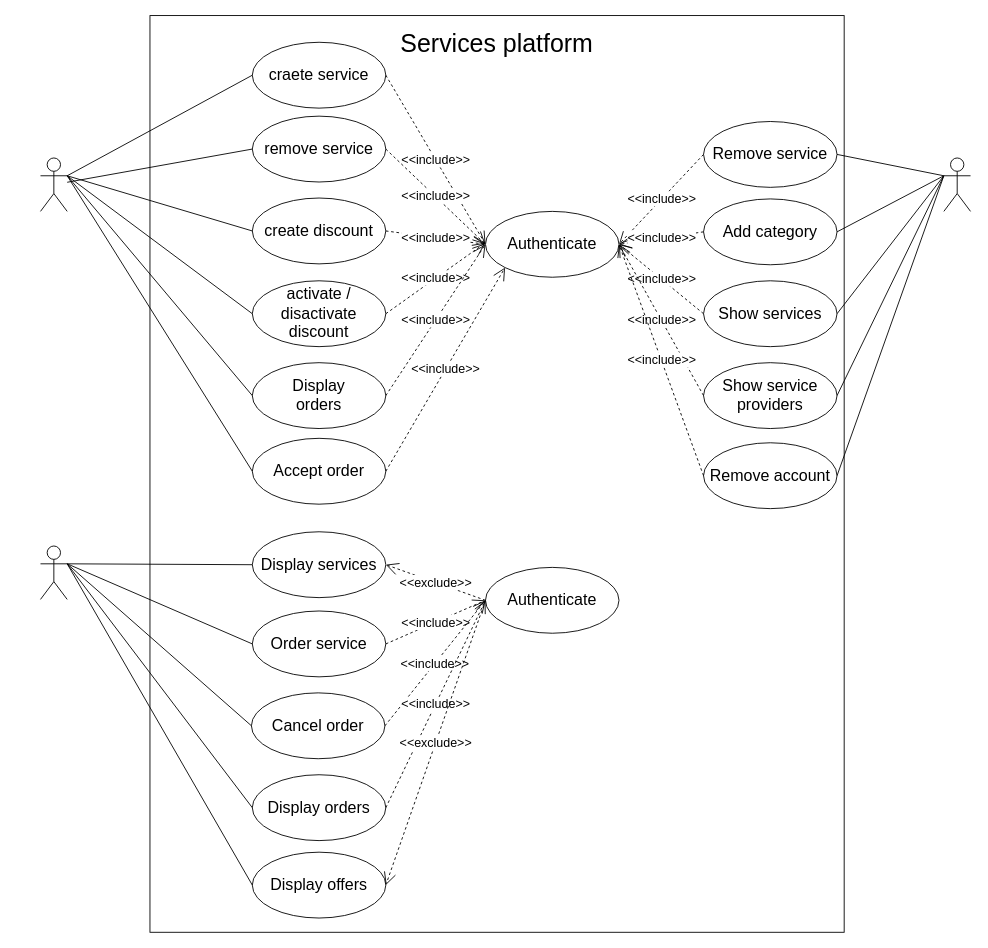
The diagram is 988 pixels wide and 948 high, and some of its shapes have lost their labels. Here are the shapes that lost their labels. From the top down, the centre of each, then its label:
point (53, 184): Service provider
point (957, 184): Admin
point (53, 572): Client
